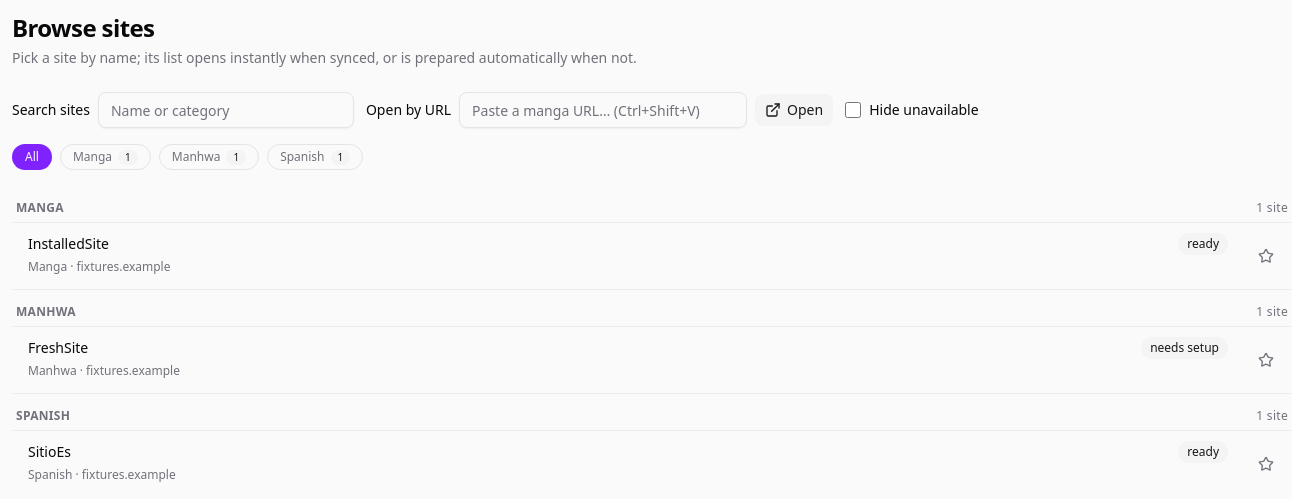
Test: SitePickerPage (browse default state) › multi-select chips union their categories; All resets
Check: the text "InstalledSite" is shown, box [28,234,109,253]
Click the button "Manhwa 1" at coordinates (209, 157), box [159,144,259,170]
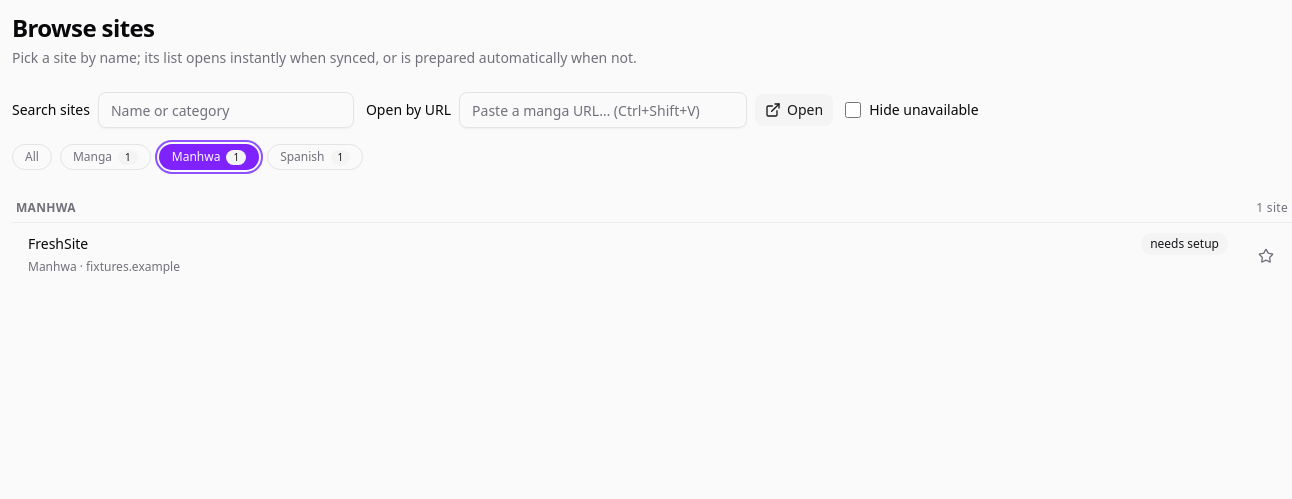
Click the button "Spanish 1" at coordinates (315, 157), box [267,144,363,170]
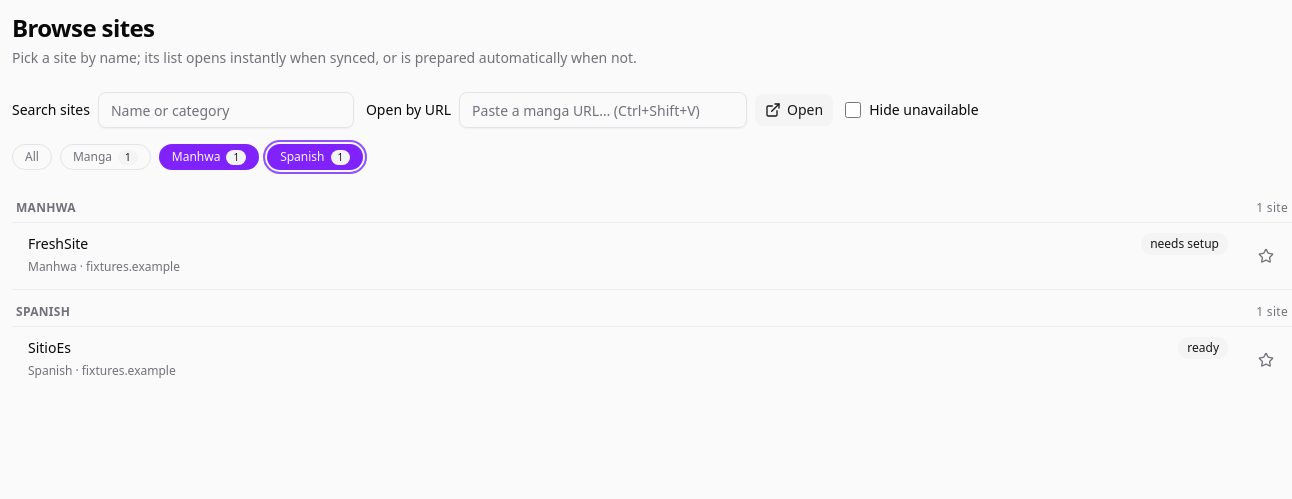
Check: the text "FreshSite" is shown, box [28,234,88,253]
Check: the text "SitioEs" is shown, box [28,338,71,357]
Click the button "All" at coordinates (32, 157), box [12,144,52,170]
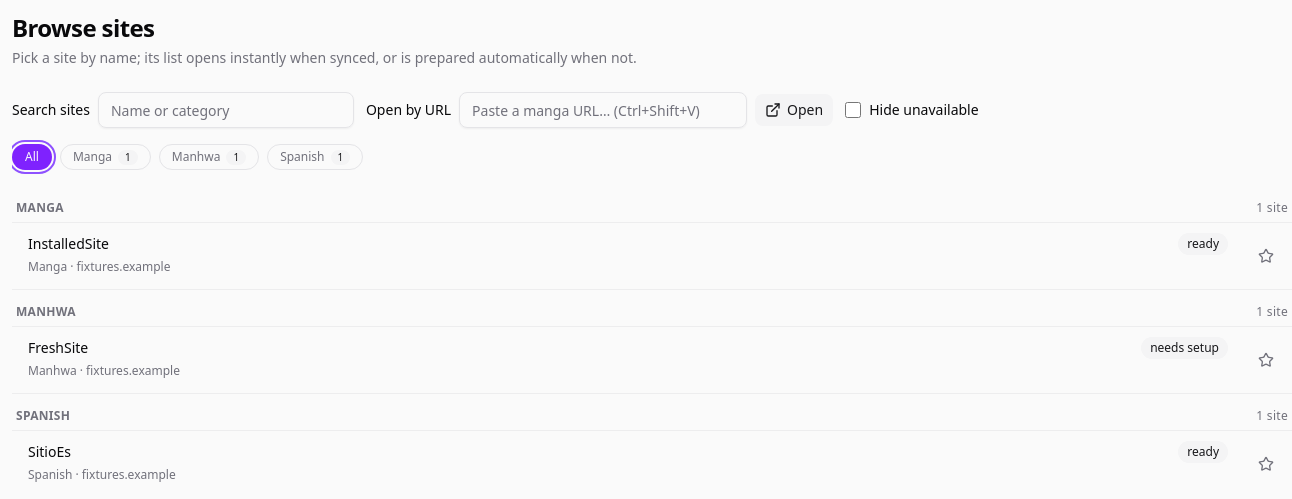
Check: the text "FreshSite" is shown, box [28,338,88,357]
Check: the text "SitioEs" is shown, box [28,442,71,461]
Check: the text "InstalledSite" is shown, box [28,234,109,253]
